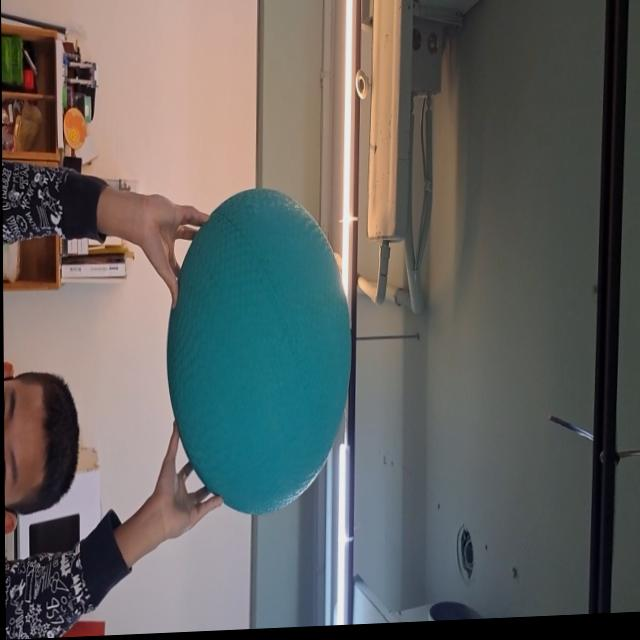ALGAE: (165, 189, 351, 517)
